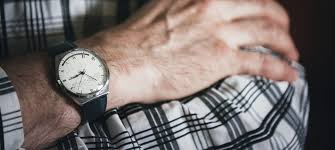clock: (58, 48, 108, 97)
